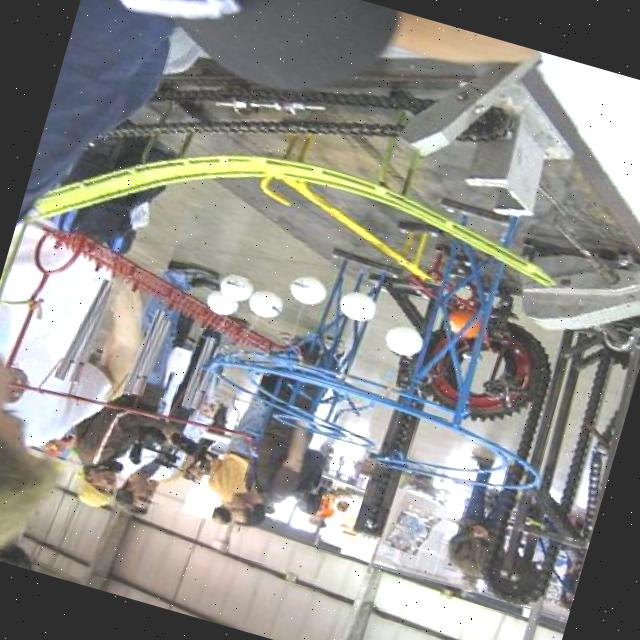ping-pong-ball: (381, 321, 427, 360), (284, 270, 329, 309), (334, 286, 380, 324), (242, 284, 284, 320), (215, 270, 255, 304), (200, 286, 240, 318)
